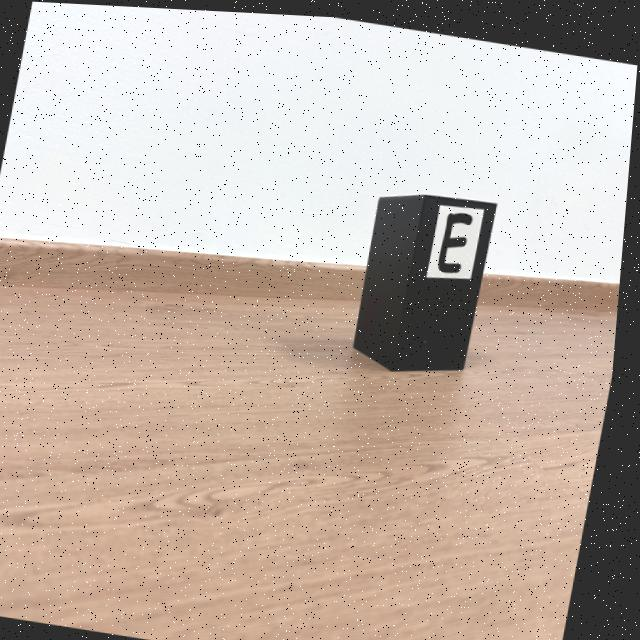E: (442, 207, 476, 268)
